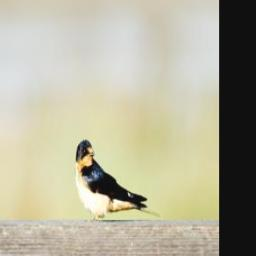Swallow: (75, 138, 161, 225)
